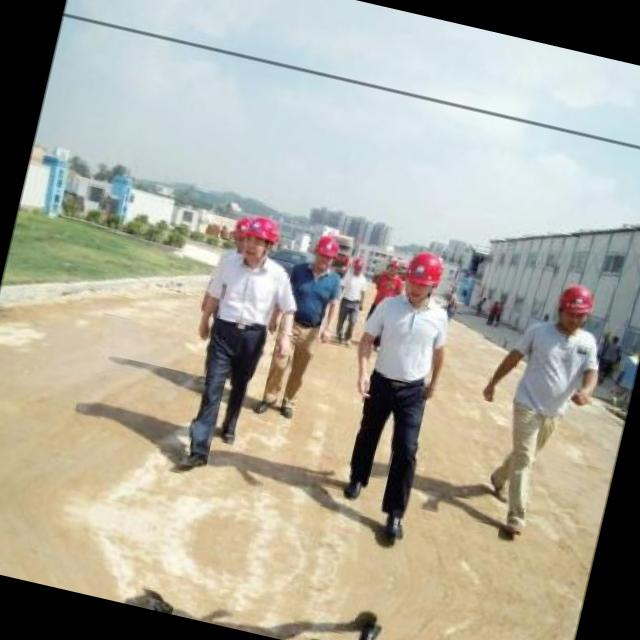helmet: (394, 245, 448, 306), (545, 274, 598, 333), (238, 212, 282, 262), (306, 225, 344, 276), (228, 214, 255, 260), (384, 254, 402, 278), (348, 254, 366, 277)
